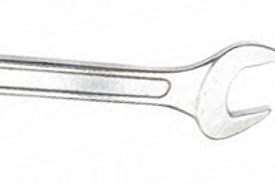Wrench: (2, 21, 275, 150)
